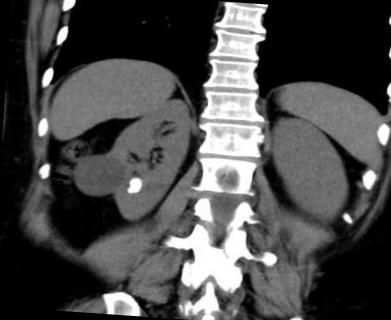Tas_Var: (124, 175, 142, 198)
